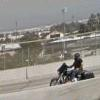Motorcycle: (47, 52, 92, 85)
